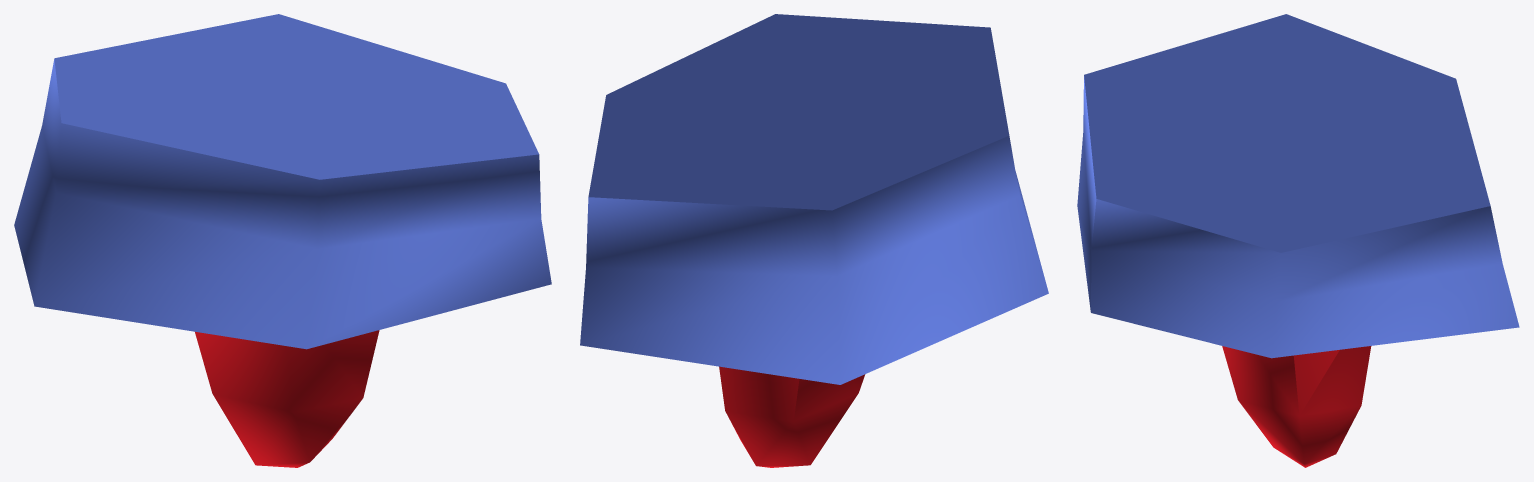
The model's file is PataD.obj.
3 renders of one model, left to right at view 1: azimuth 30°, elevation 25°; view 2: azimuth 150°, elevation 25°; view 3: azimuth 270°, elevation 25°, orthographic. The views are drawn at different scales.
Parts seen in each view (by area): view 1: 3D_Object_1; view 2: 3D_Object_1; view 3: 3D_Object_1.
Part boxes in pixels (x1,y1,x2,y2): 3D_Object_1: (14, 14, 551, 467); 3D_Object_1: (580, 14, 1048, 467); 3D_Object_1: (1077, 14, 1519, 467).
Bounding box in the file's own units: 26.22 × 21.37 × 24.38.
Materials: 1 (1 with a texture image).
